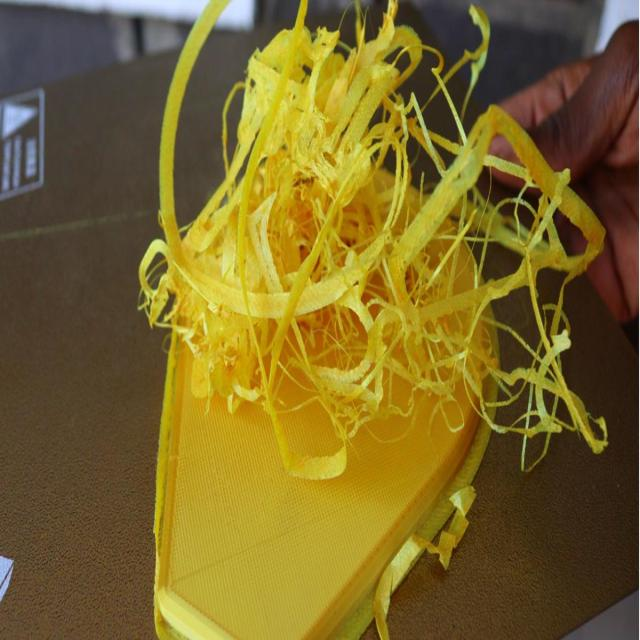Spaghetti: (149, 19, 616, 456)
